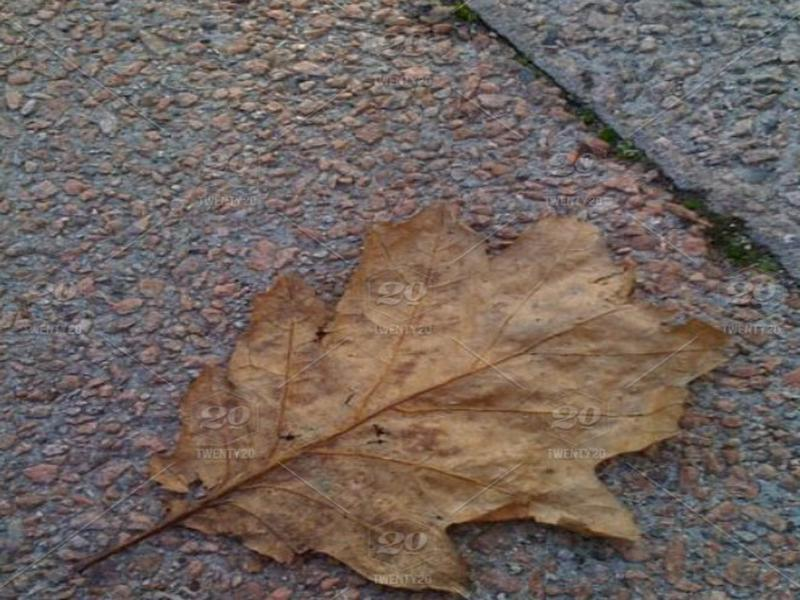leaf: (71, 187, 746, 596)
